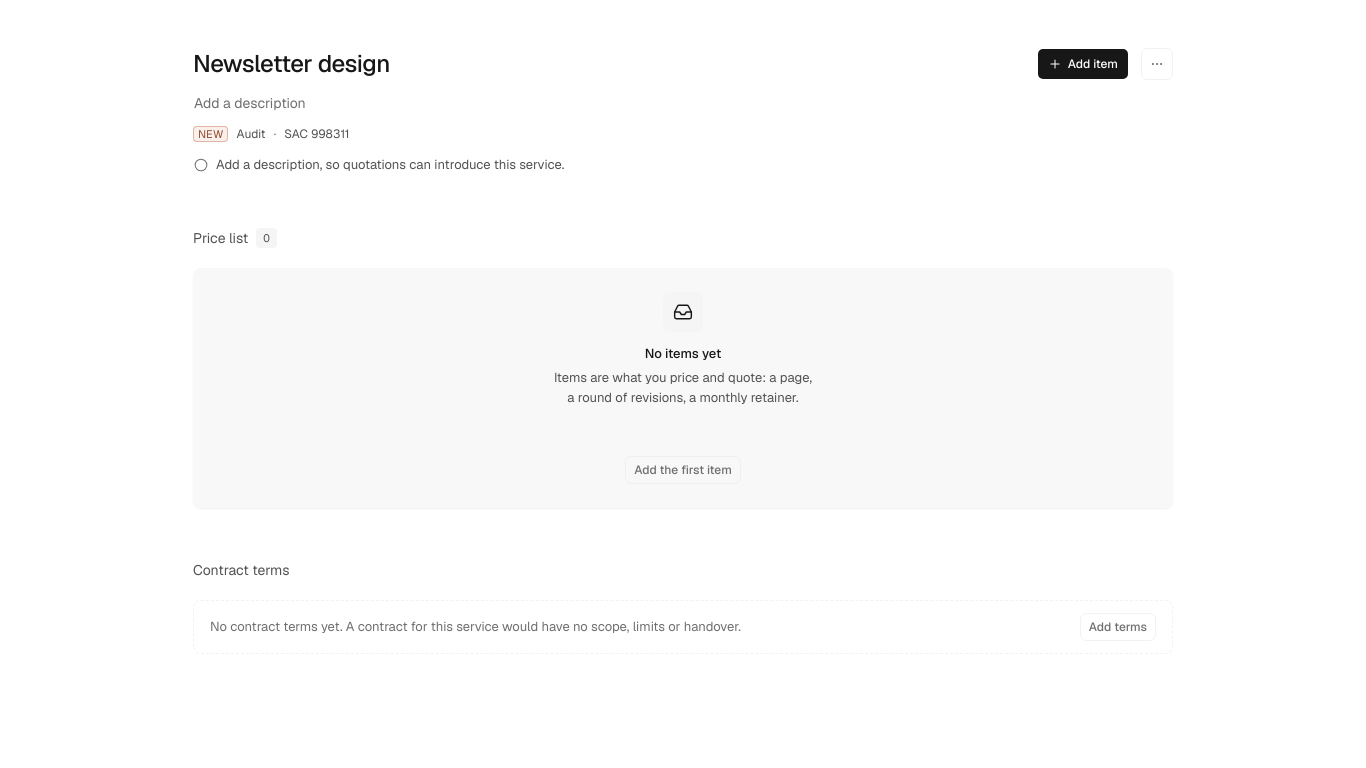
Test case: a new service › edits its own terms in a sheet
Click the button "Add terms" at (1118, 627), box x1=1080 y1=613 x2=1156 y2=641
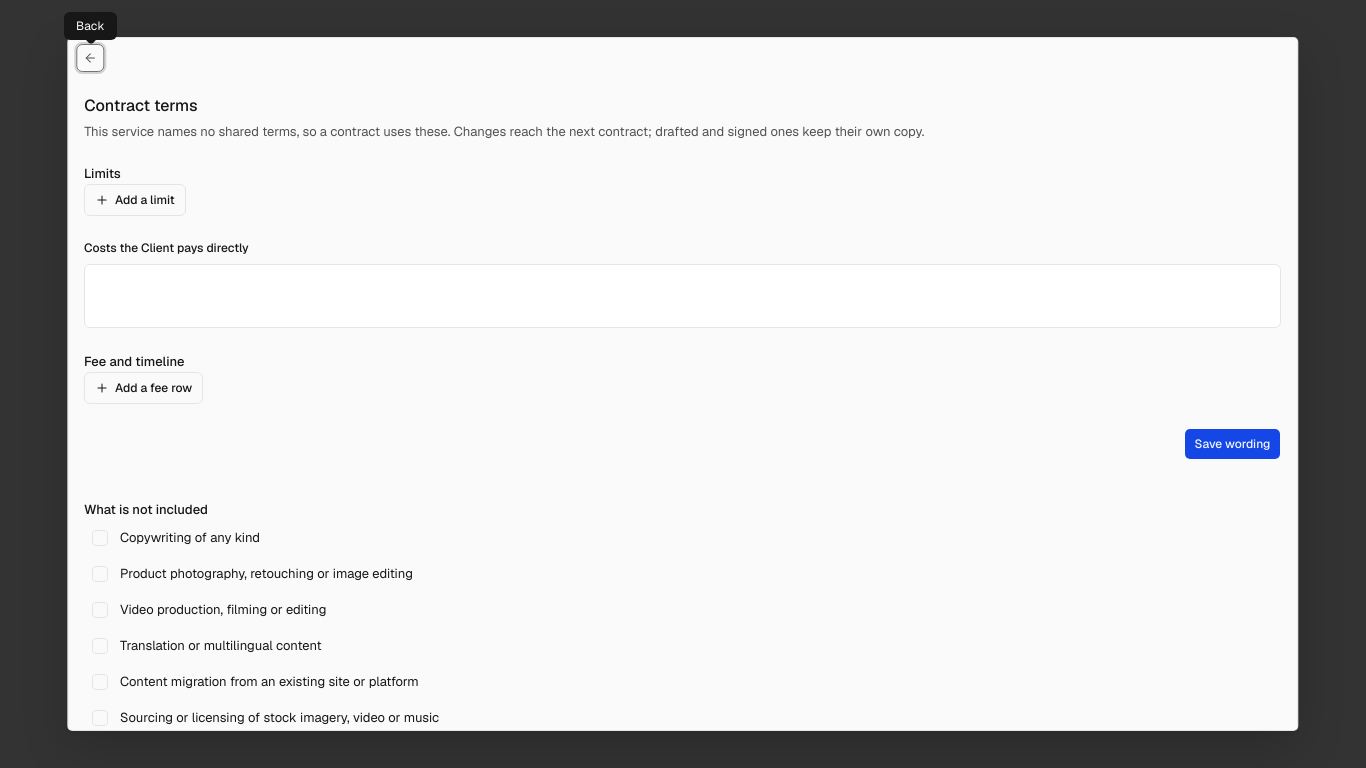
Expected: the button "Save wording" is shown, x1=1184 y1=428 x2=1282 y2=460
